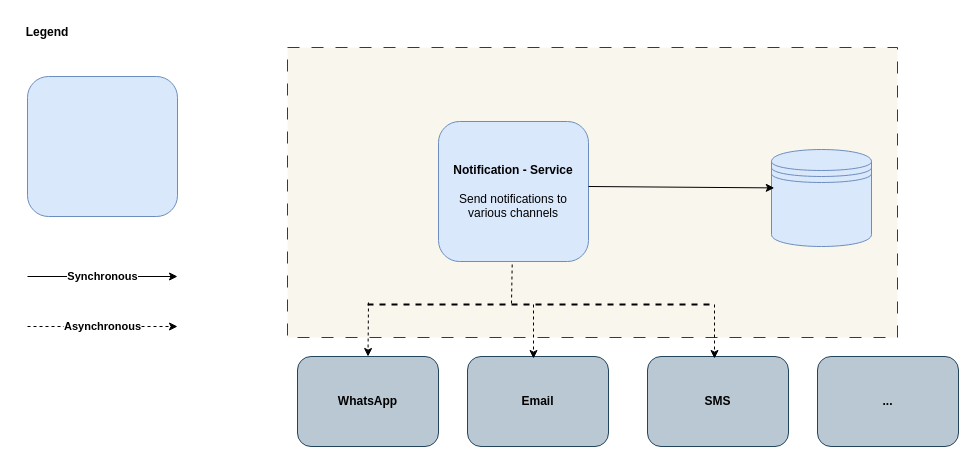
Image size: 976x464. Some labels were removed from this diagram. The shapes that lost their labels are listed below. From the top down, each one's centre as x and y in pixels, then its label:
At (102,146): "Service API".
At (821,197): "Database".
